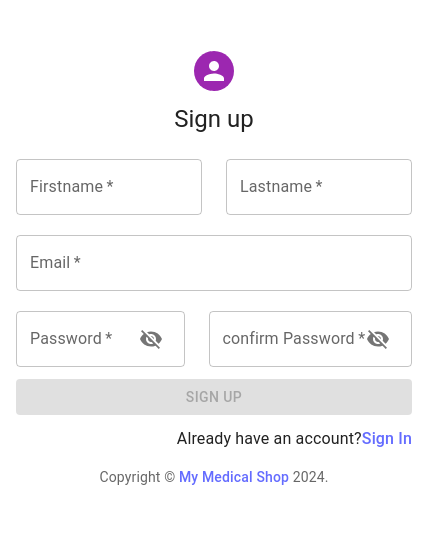
Test: Register › Button must be disabled when only Lastnamename exists and appropriate required error message must be shown
This screenshot has width=429, height=537.
In the field with test id "sign-up-lastname": (319, 187) [226,159,412,215], type "Chandra"
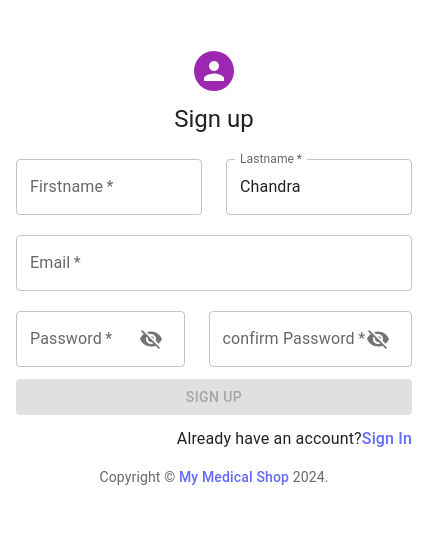
Leave the password field with test id "sign-up-confirm-password", box [208,311,350,367]
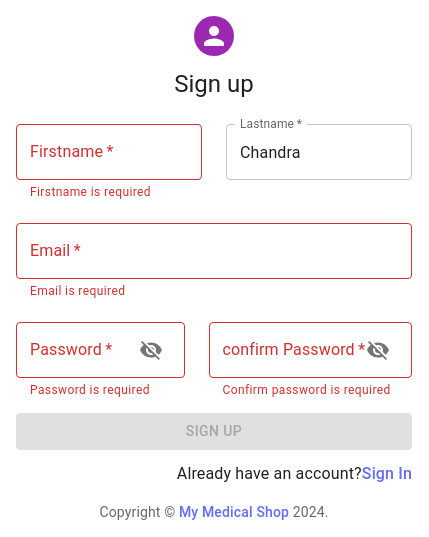
Now the text "Firstname is required" is shown, box [30,185,151,199]
Now the text "Email is required" is shown, box [30,284,125,298]
Now the text "Password is required" is shown, box [30,381,170,401]
